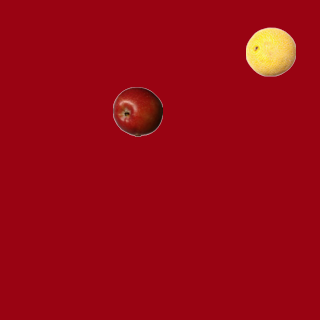Apple Braeburn: (112, 86, 162, 136)
Cantaloupe 1: (245, 26, 295, 76)
